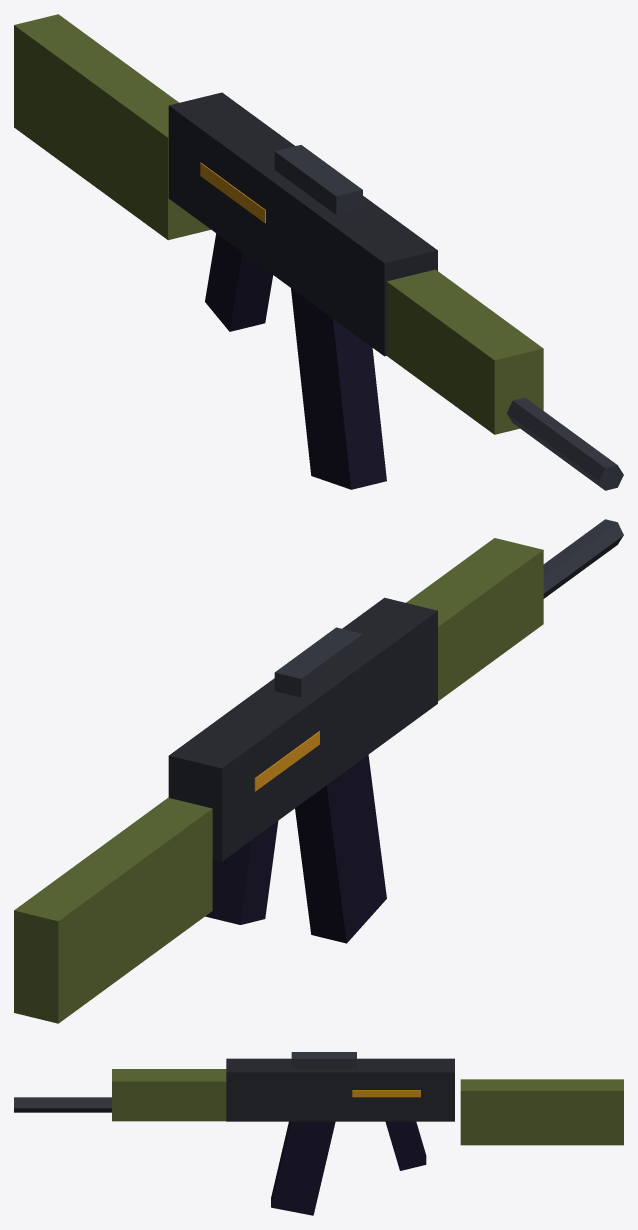
The model's file is monsoon_ar.glb.
3 views of the same model, one above another, from view 1: azimuth 30°, elevation 25°; view 2: azimuth 150°, elevation 25°; view 3: azimuth 270°, elevation 25° (orthographic). The views are drawn at different scales.
Visible parts, largest first — view 1: model; view 2: model; view 3: model.
Part boxes in pixels (bbox=[...]): model: bbox=[14, 14, 623, 490]; model: bbox=[14, 519, 623, 1023]; model: bbox=[14, 1052, 623, 1215].
Bounding box in the file's own units: 0.062 × 0.3153 × 1.12.
